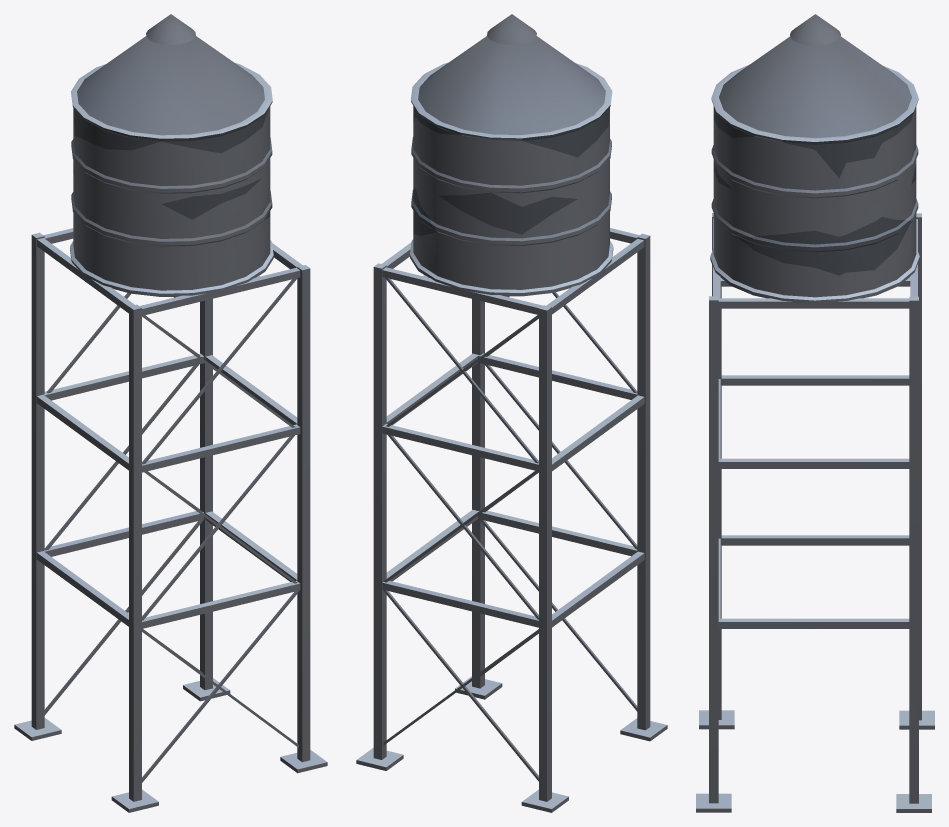
The model's file is water_tower.glb.
The picture shows the model from 3 angles, left to right: view 1: azimuth 30°, elevation 25°; view 2: azimuth 150°, elevation 25°; view 3: azimuth 270°, elevation 25°; orthographic projection. The views are drawn at different scales.
Parts seen in each view (by area): view 1: Prop; view 2: Prop; view 3: Prop.
Boxes of the visible parts, x1,y1,x2,y2 form: Prop: (14,14,327,812); Prop: (356,14,667,812); Prop: (696,14,934,812).
Size of the model in its own units: 2.65 by 9.38 by 2.71.
